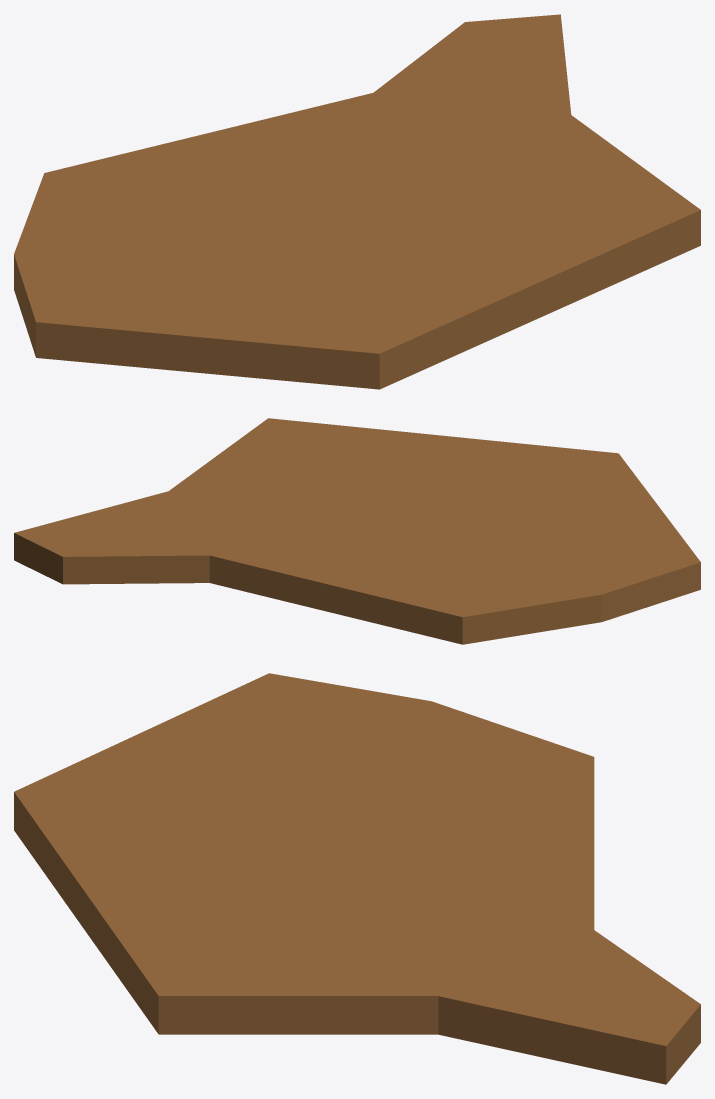
Rendered from x_proval_00_246_1_rmstrd.fbx.
3 renders of one model, top to bottom at view 1: azimuth 30°, elevation 25°; view 2: azimuth 150°, elevation 25°; view 3: azimuth 270°, elevation 25°, orthographic. The views are drawn at different scales.
Visible parts, largest first — view 1: x_proval_00_246_1_rmstrd1; view 2: x_proval_00_246_1_rmstrd1; view 3: x_proval_00_246_1_rmstrd1.
Part boxes in pixels (x1,y1,x2,y2): x_proval_00_246_1_rmstrd1: (14,14,700,389); x_proval_00_246_1_rmstrd1: (14,418,700,644); x_proval_00_246_1_rmstrd1: (14,673,700,1084).
Size of the model in its own units: 4.15 by 0.2 by 3.23.
